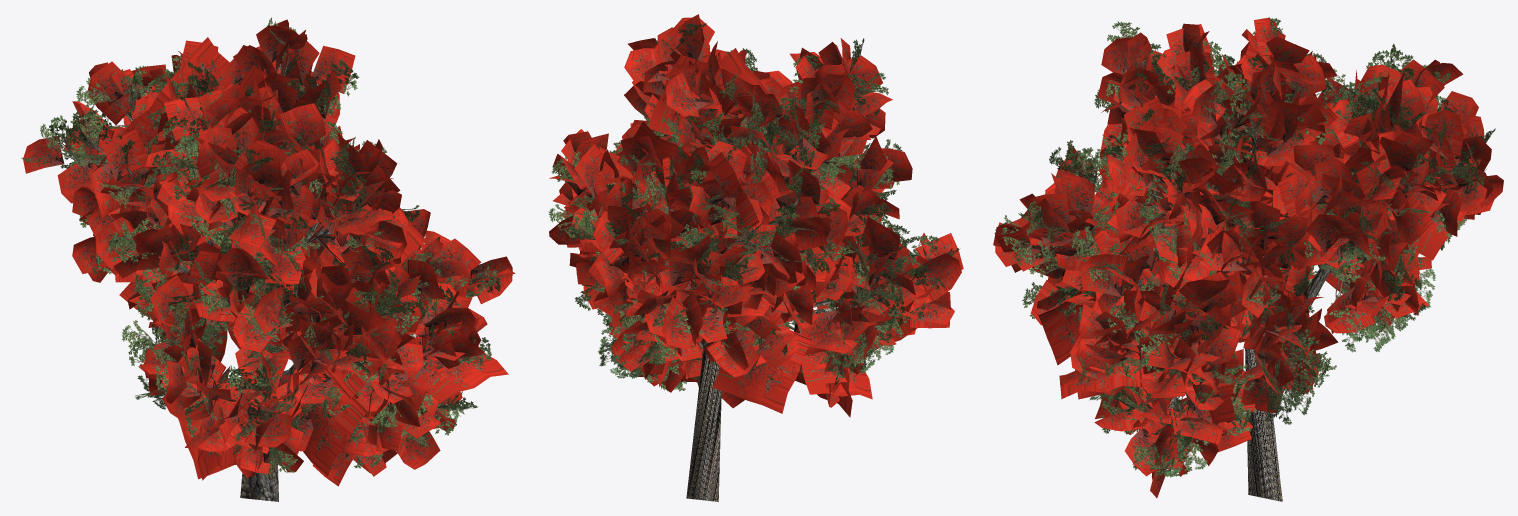
The model's file is poinciana_c.glb.
3 views of the same model, side by side, from view 1: azimuth 30°, elevation 25°; view 2: azimuth 150°, elevation 25°; view 3: azimuth 270°, elevation 25° (orthographic).
Visible parts, largest first — view 1: 13_1_w; view 2: 13_1_w; view 3: 13_1_w.
Boxes of the visible parts, <box> form: 13_1_w: <box>21,17,515,501</box>; 13_1_w: <box>548,14,963,501</box>; 13_1_w: <box>993,17,1503,501</box>.
Bounding box in the file's own units: 7.35 × 8.96 × 8.56.
6 materials, 6 textured.
